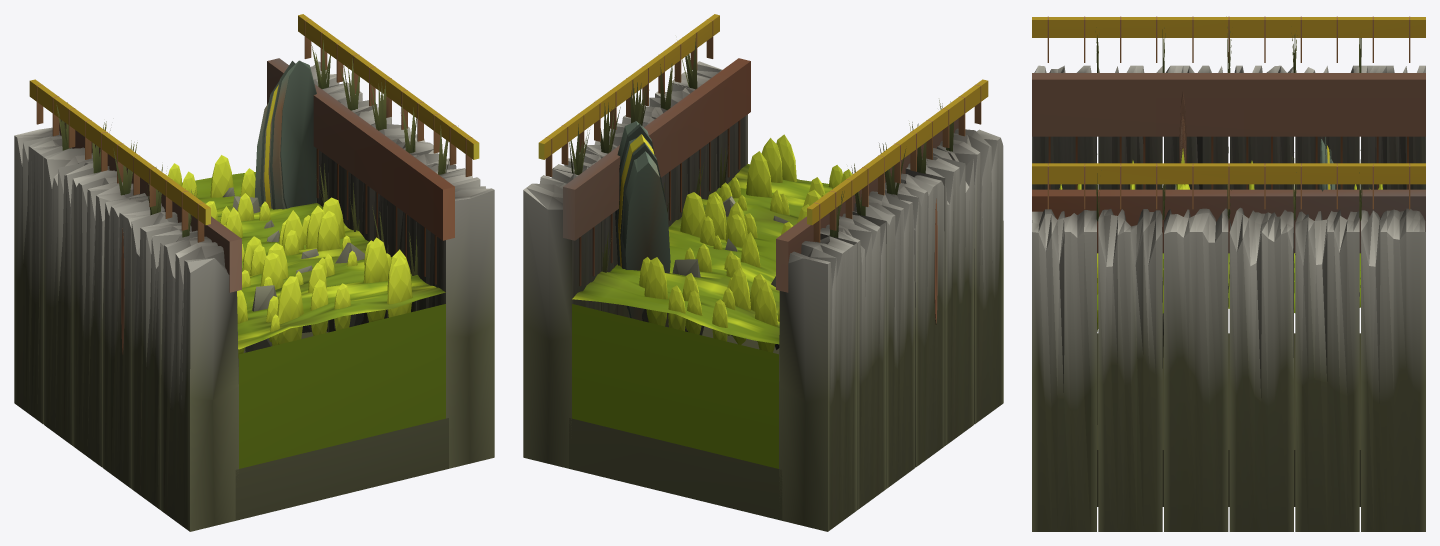
The model's file is sludge-canal.glb.
3 renders of one model, left to right at view 1: azimuth 30°, elevation 25°; view 2: azimuth 150°, elevation 25°; view 3: azimuth 270°, elevation 25°, orthographic. The views are drawn at different scales.
Visible parts, largest first — view 1: sludge-canal; view 2: sludge-canal; view 3: sludge-canal.
Part boxes in pixels (x1,y1,x2,y2): sludge-canal: (14,14,494,531); sludge-canal: (523,14,1003,531); sludge-canal: (1032,16,1425,531).
Size of the model in its own units: 1 by 1 by 1.
